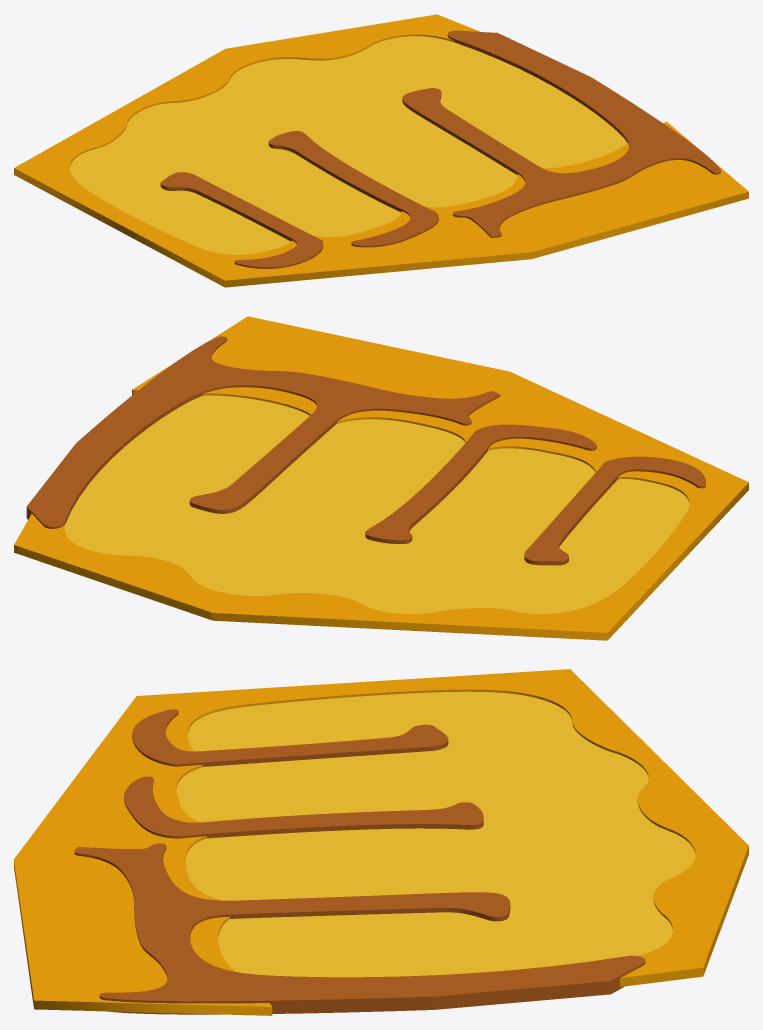
The model's file is emoji_u1f44a.glb.
3 renders of one model, top to bottom at view 1: azimuth 30°, elevation 25°; view 2: azimuth 150°, elevation 25°; view 3: azimuth 270°, elevation 25°, orthographic. The views are drawn at different scales.
Visible parts, largest first — view 1: emoji_u1f44a; view 2: emoji_u1f44a; view 3: emoji_u1f44a.
Boxes of the visible parts, <box> form: emoji_u1f44a: <box>14,14,748,287</box>; emoji_u1f44a: <box>14,316,748,640</box>; emoji_u1f44a: <box>14,669,748,1015</box>.
Size of the model in its own units: 0.0325 by 0.0006 by 0.0299.
